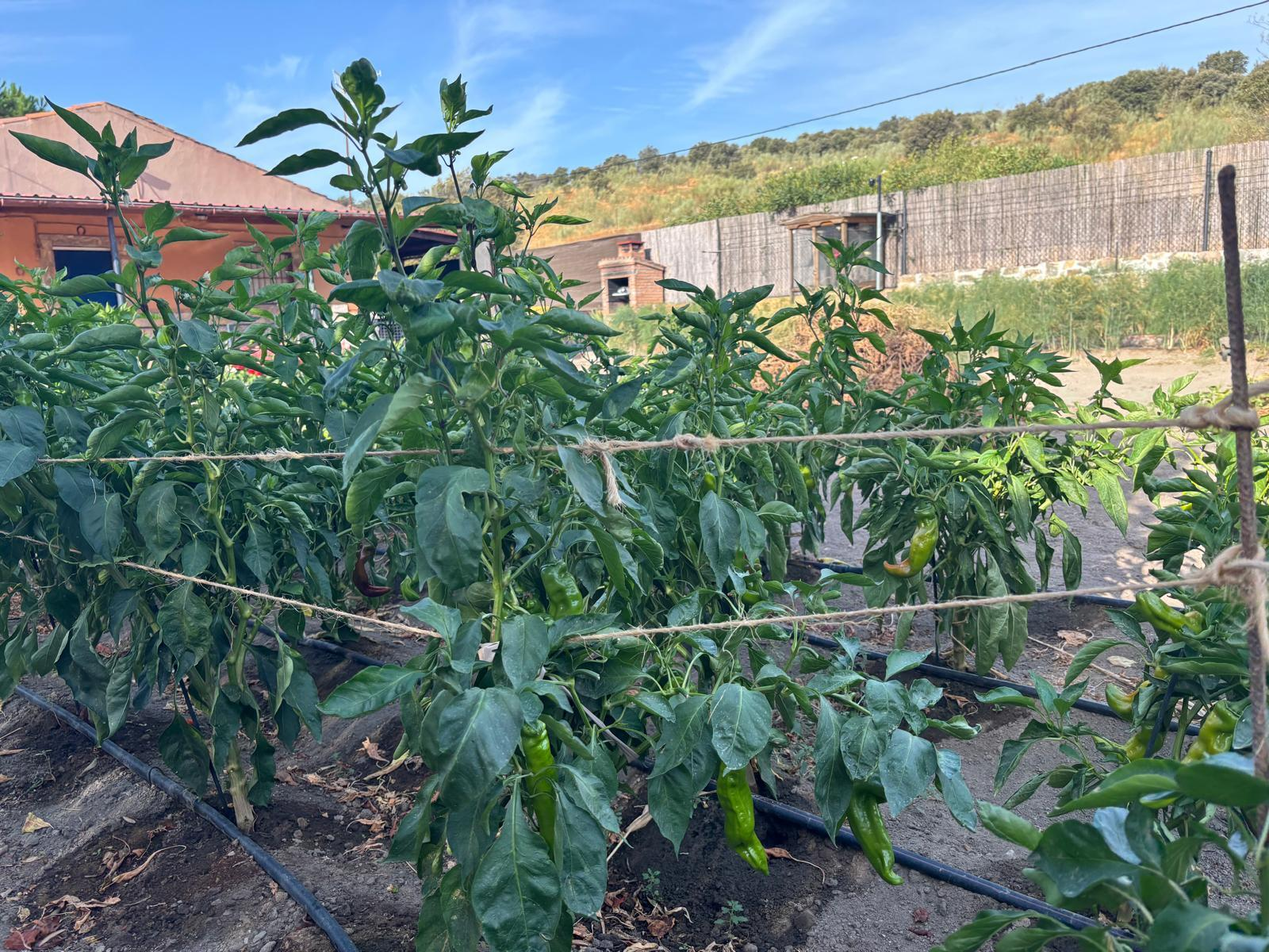pimientera: (32, 278, 1237, 919)
